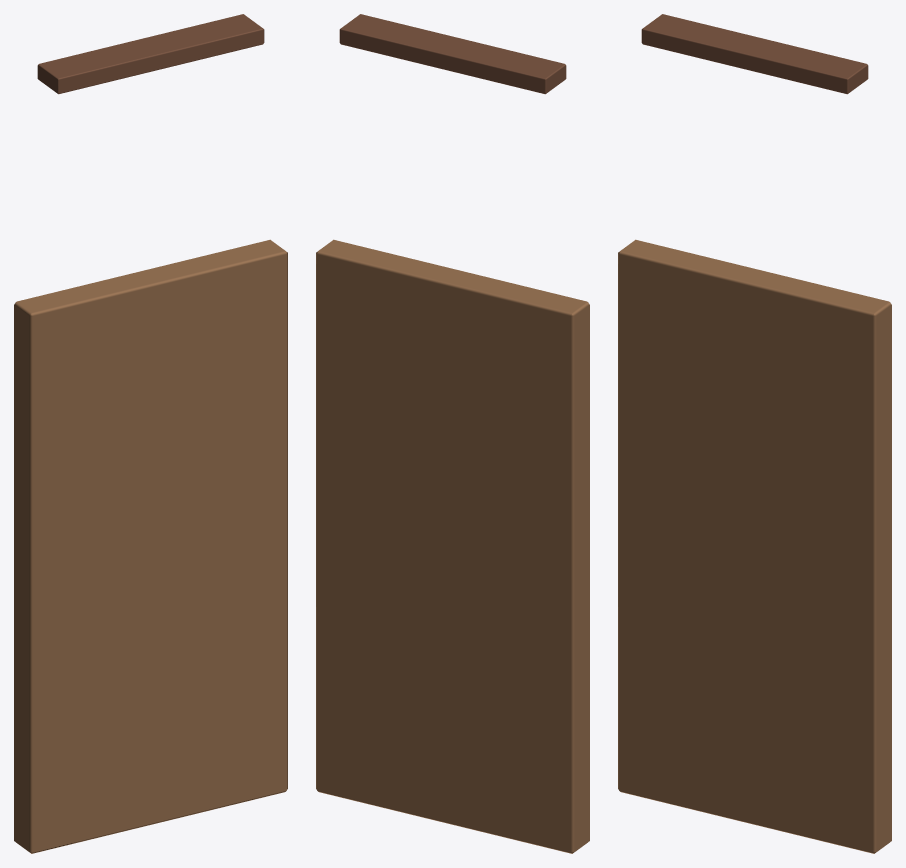
File: ghost-town-window-sill.eac41b85.glb
3 renders of one model, left to right at view 1: azimuth 30°, elevation 25°; view 2: azimuth 150°, elevation 25°; view 3: azimuth 330°, elevation 25°, orthographic.
Visible parts, largest first — view 1: body; view 2: body; view 3: body.
Part boxes in pixels (bbox=[...]): body: bbox=[14, 14, 287, 853]; body: bbox=[316, 14, 589, 853]; body: bbox=[618, 14, 891, 853].
Size of the model in its own units: 1 by 2.85 by 0.14.
